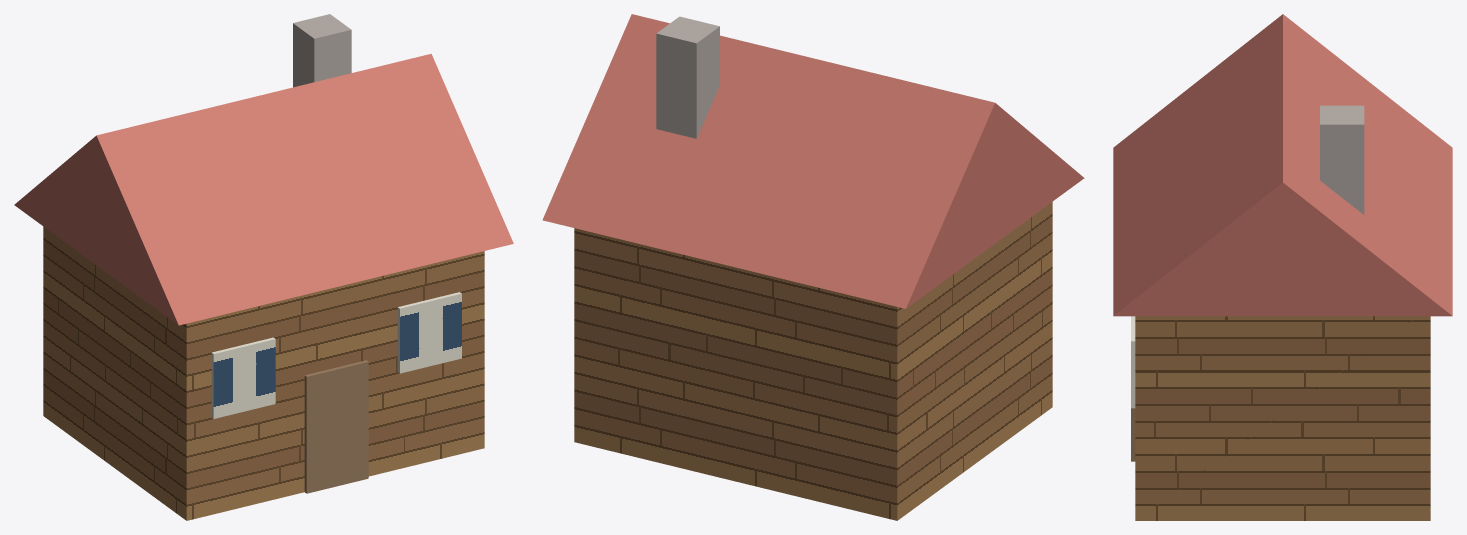
The model's file is house.glb.
The picture shows the model from 3 angles, left to right: view 1: azimuth 30°, elevation 25°; view 2: azimuth 150°, elevation 25°; view 3: azimuth 270°, elevation 25°; orthographic projection. The views are drawn at different scales.
Parts seen in each view (by area): view 1: roof, House, door, window_right, window_left, chimney; view 2: House, roof, chimney; view 3: roof, House, chimney, window_right.
Boxes of the visible parts, bbox=[...] form: roof: bbox=[14, 53, 513, 325]; House: bbox=[43, 226, 484, 520]; door: bbox=[304, 360, 368, 493]; window_right: bbox=[397, 292, 461, 373]; window_left: bbox=[211, 337, 275, 418]; chimney: bbox=[293, 14, 351, 87]; House: bbox=[574, 202, 1052, 520]; roof: bbox=[542, 14, 1084, 308]; chimney: bbox=[656, 16, 719, 138]; roof: bbox=[1113, 14, 1452, 316]; House: bbox=[1135, 316, 1430, 520]; chimney: bbox=[1320, 105, 1364, 214]; window_right: bbox=[1131, 316, 1135, 408].
Bounding box in the file's own units: 2.7 × 2.8 × 2.3.
5 materials, 2 textured.
